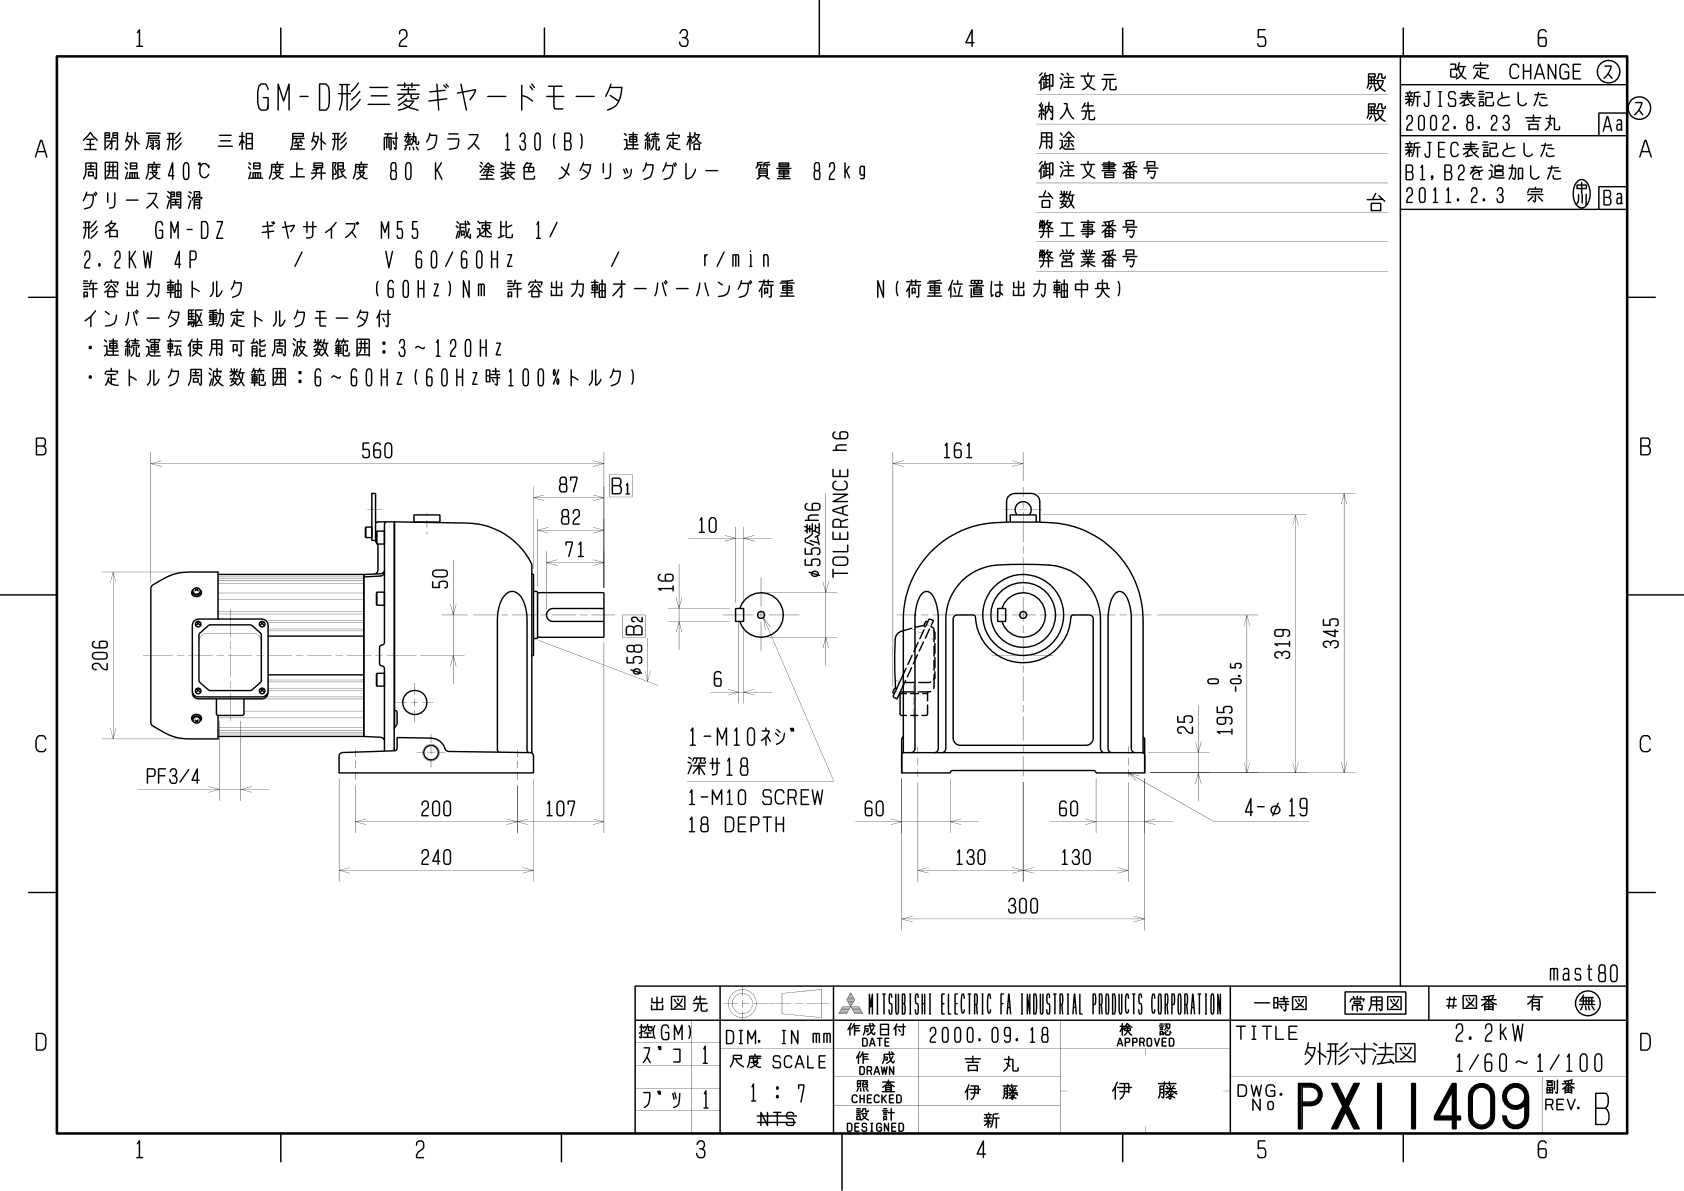GM_D_インバータ屋外_三相_脚: (1, 1, 1672, 1181)
